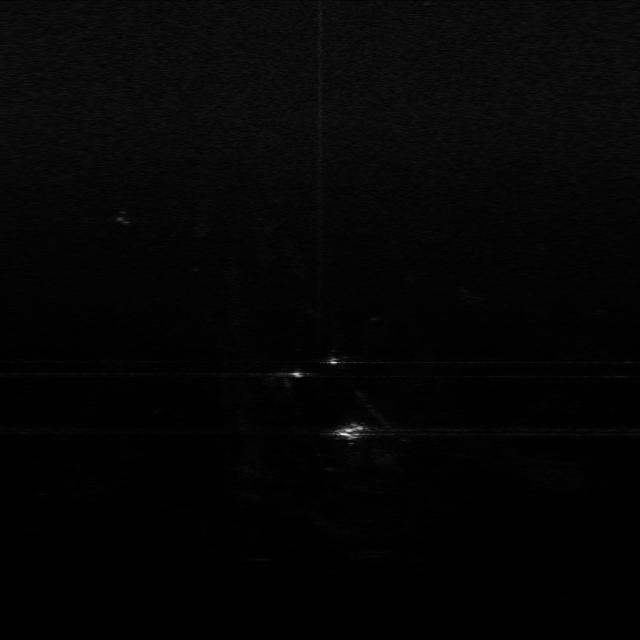rov: (330, 419, 370, 445)
